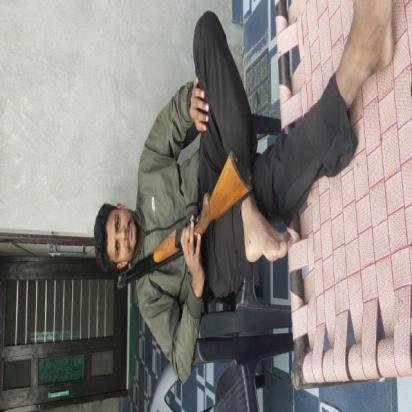Gun: (115, 148, 256, 290)
